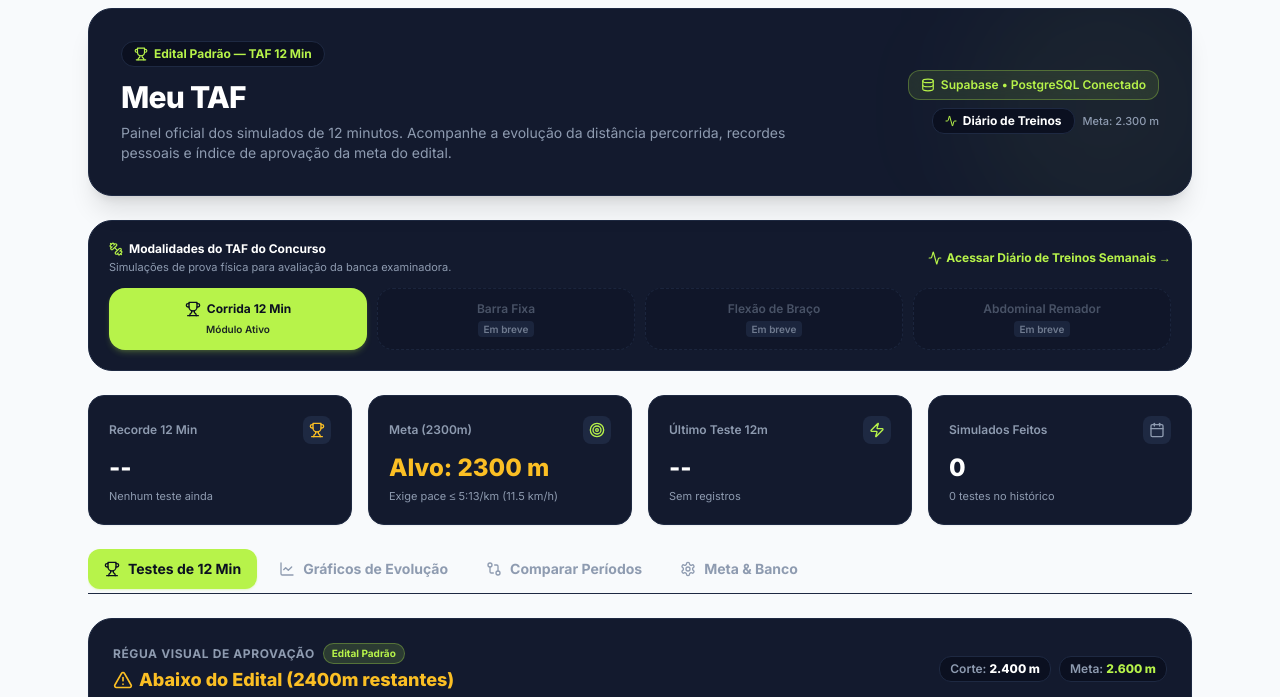
it: MeuTafPage - Fase E (Painel de Evolução & 5 Gráficos Recharts) › navega para a aba Gráficos de Evolução e exibe os 4 KPIs e containers dos 5 gráficos em estado vazio
The width and height of the screenshot is (1280, 697).
// Clica na aba Gráficos de Evolução
Click the button "Gráficos de Evolução" at (364, 569), box [263,549,464,589]
(page scrolled)
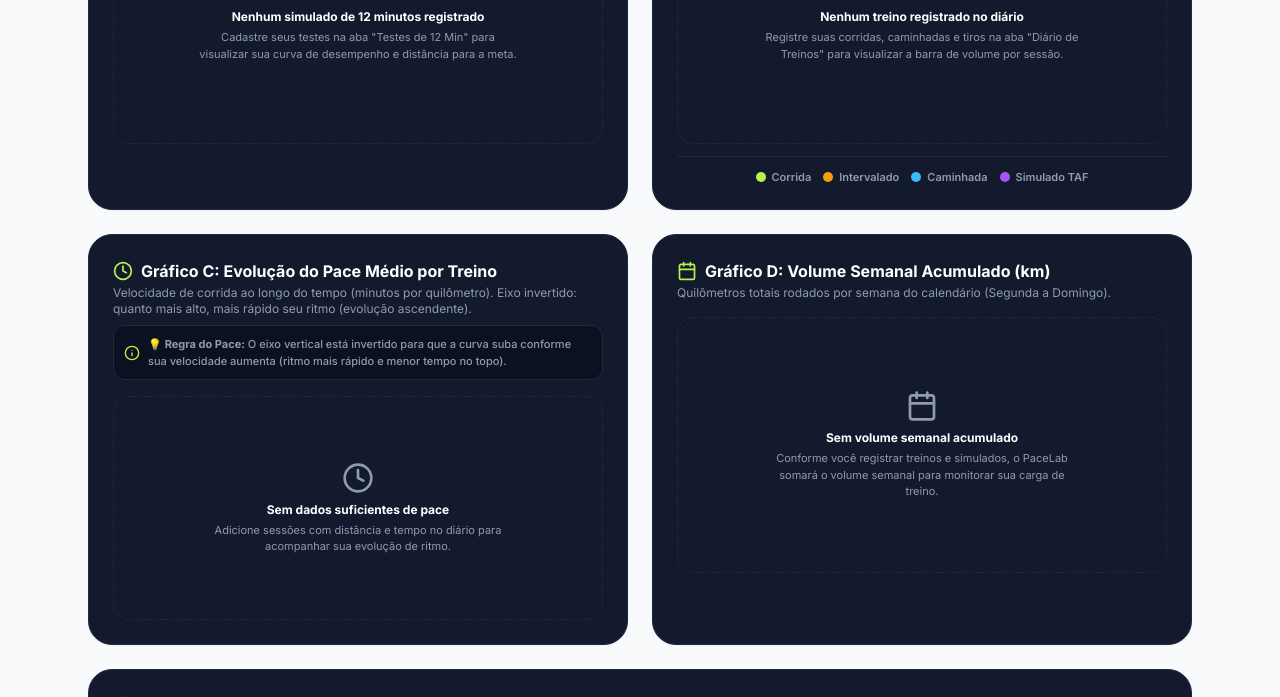
Expected: the element with test id "chart-c-container" is shown, [88,234,628,645]
Expected: the element with test id "chart-d-container" is shown, [652,234,1192,645]
Expected: the text "Nenhum simulado de 12 minutos registrado" is shown, [232,9,484,25]
